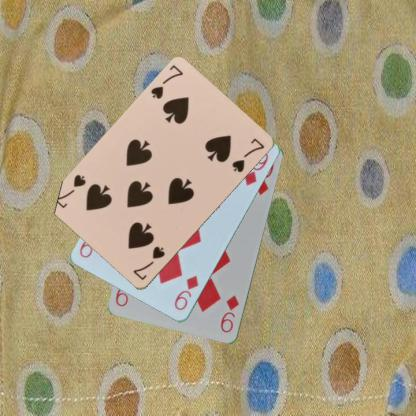7s: (130, 244, 166, 282), (148, 62, 184, 100)
9d: (172, 273, 200, 312), (218, 292, 241, 335)
